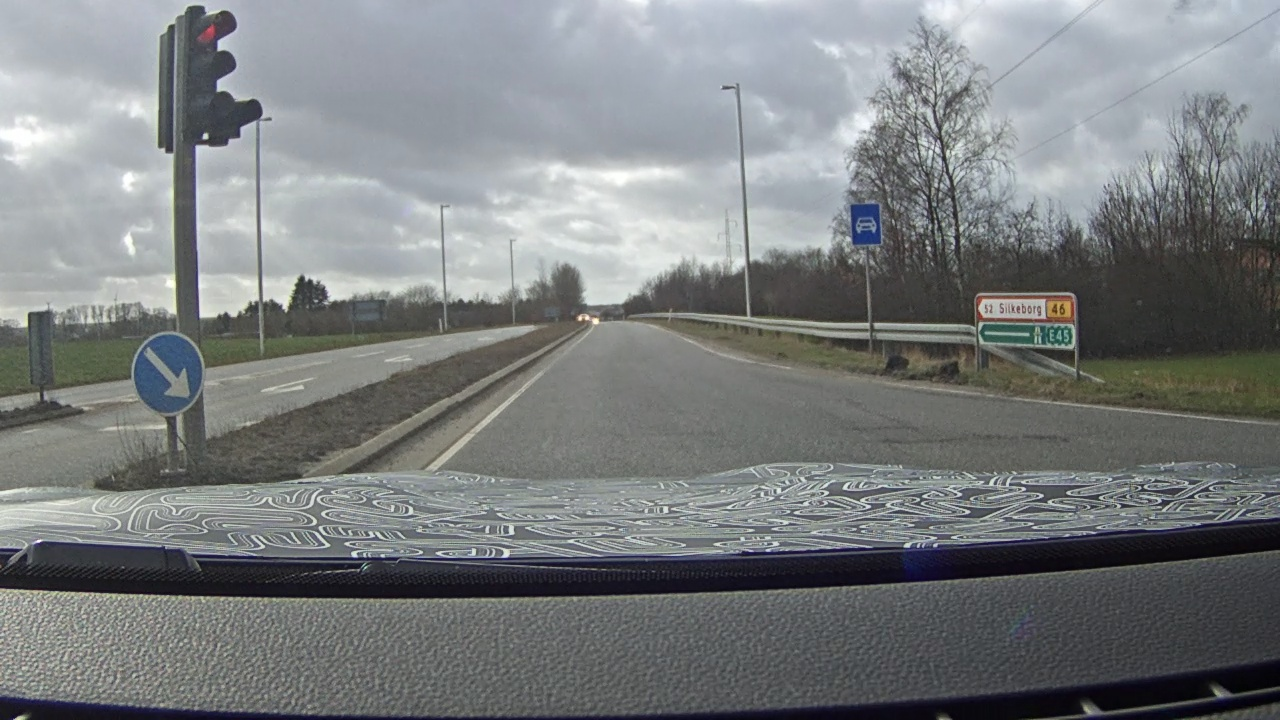Expressway_Begin: (850, 202, 882, 246)
